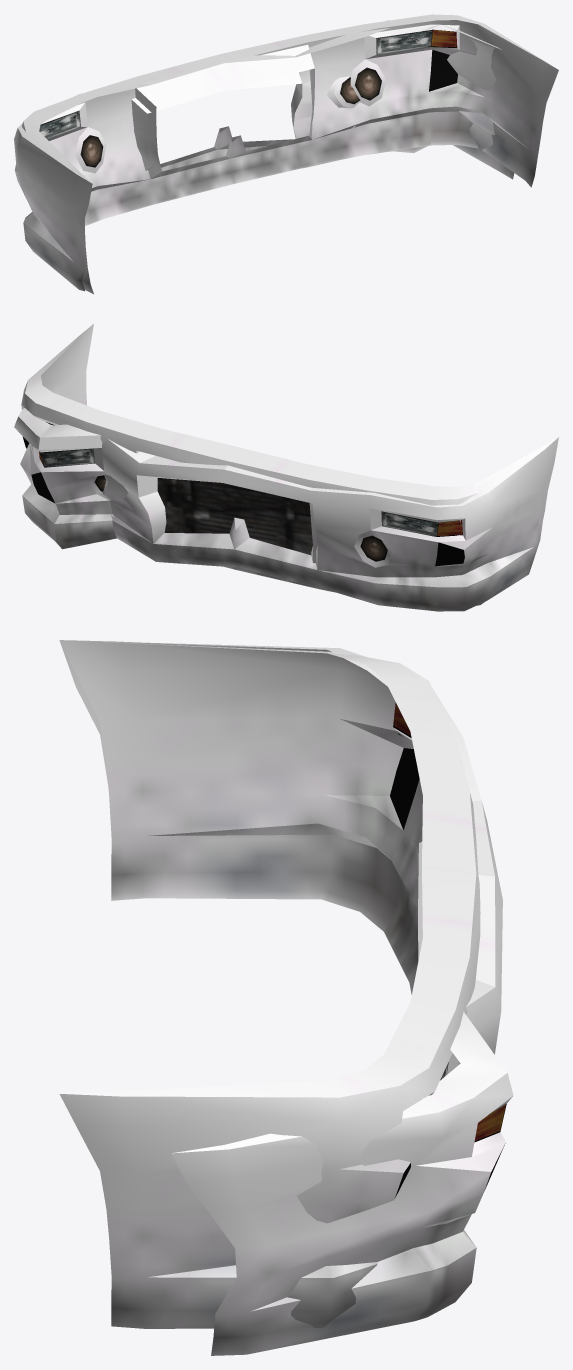
The model's file is fbmp_c_l.glb.
The picture shows the model from 3 angles, top to bottom: view 1: azimuth 30°, elevation 25°; view 2: azimuth 150°, elevation 25°; view 3: azimuth 270°, elevation 25°; orthographic projection. The views are drawn at different scales.
Visible parts, largest first — view 1: fbmp_c_l, fbmp_c_l_dam; view 2: fbmp_c_l_dam, fbmp_c_l; view 3: fbmp_c_l, fbmp_c_l_dam.
Boxes of the visible parts, x1,y1,x2,y2 form: fbmp_c_l: (22, 14, 558, 294); fbmp_c_l_dam: (14, 20, 514, 291); fbmp_c_l_dam: (14, 408, 558, 611); fbmp_c_l: (21, 324, 554, 605); fbmp_c_l: (59, 640, 480, 1328); fbmp_c_l_dam: (60, 640, 513, 1355).
Bounding box in the file's own units: 2.15 × 0.5803 × 0.8691.
Materials: 3 (3 with a texture image).
